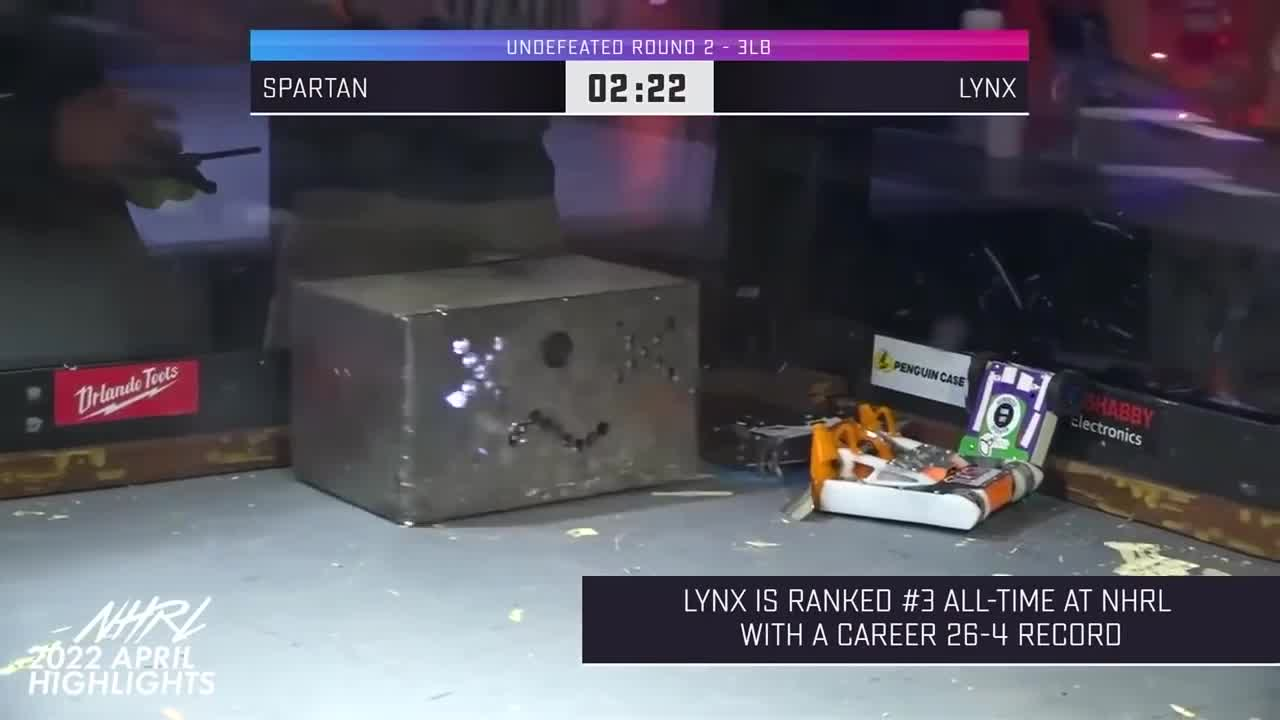combatbot: (790, 419, 1040, 529), (953, 352, 1084, 469), (702, 410, 914, 477)
housebot: (291, 247, 701, 526)
